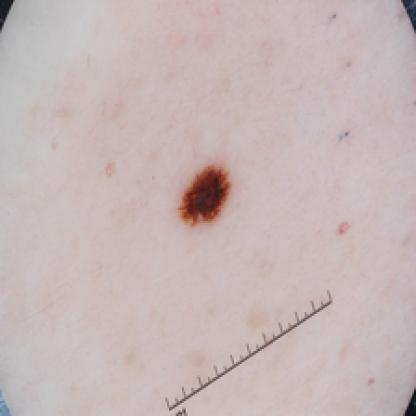malignant: (178, 171, 247, 223)
